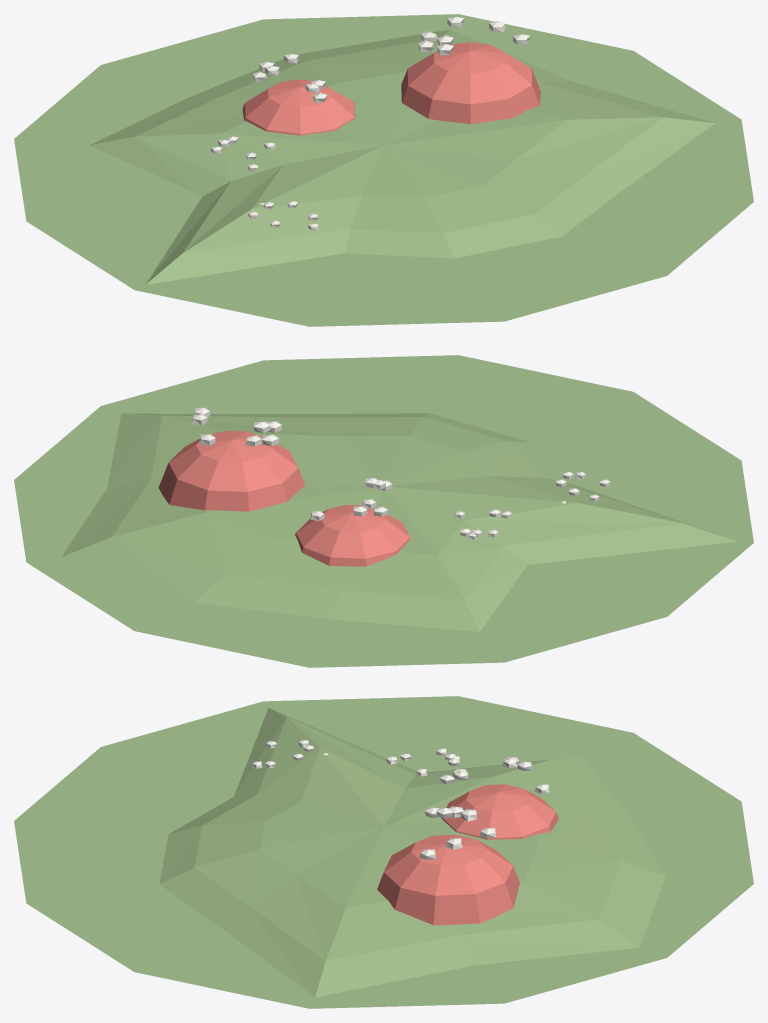
The model's file is nature_mushroom_group.glb.
The picture shows the model from 3 angles, top to bottom: view 1: azimuth 30°, elevation 25°; view 2: azimuth 150°, elevation 25°; view 3: azimuth 270°, elevation 25°; orthographic projection.
Parts seen in each view (by area): view 1: world; view 2: world; view 3: world.
Part boxes in pixels (<box>): world: <box>14,14,753,326</box>; world: <box>14,355,753,667</box>; world: <box>14,696,753,1008</box>.
Bounding box in the file's own units: 2 × 0.4592 × 2.
